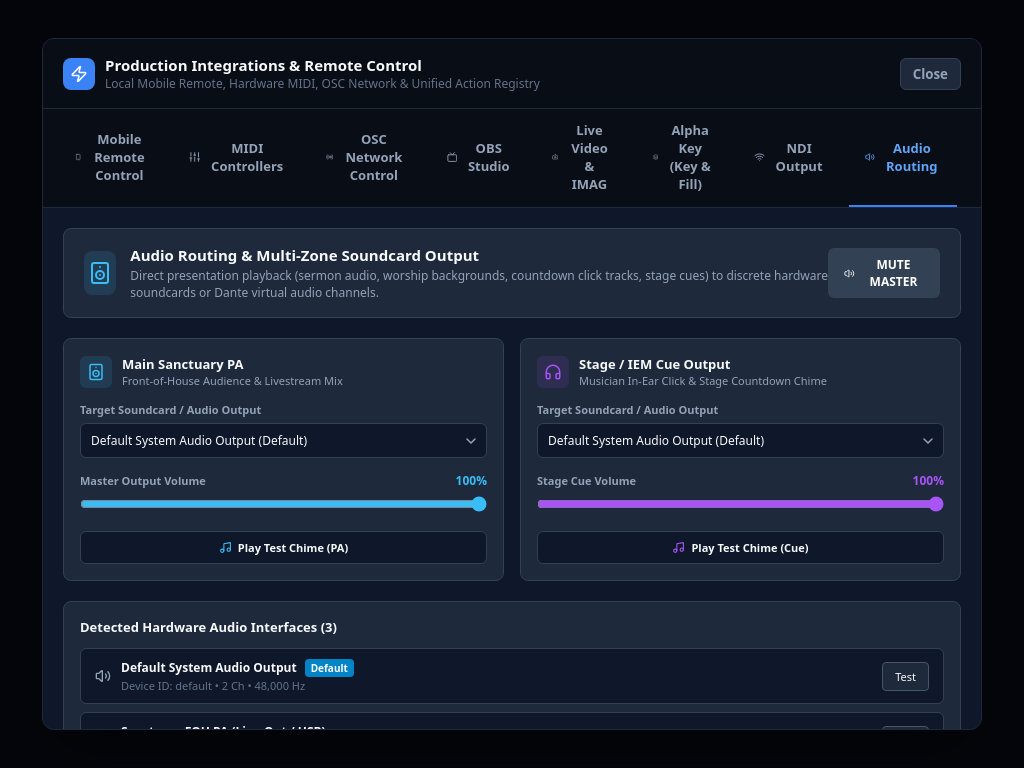
it: Phase 11.7: Audio Routing & Multi-Zone Soundcard Output › UI Integration: ProductionIntegrationsModal Audio Tab › toggles master mute button and displays MUTED badge
What coordinates should you click on to do the following:
click the button with test id "audio-mute-toggle"
I would click on:
 (884, 273)
Its box is [828,248,940,298].
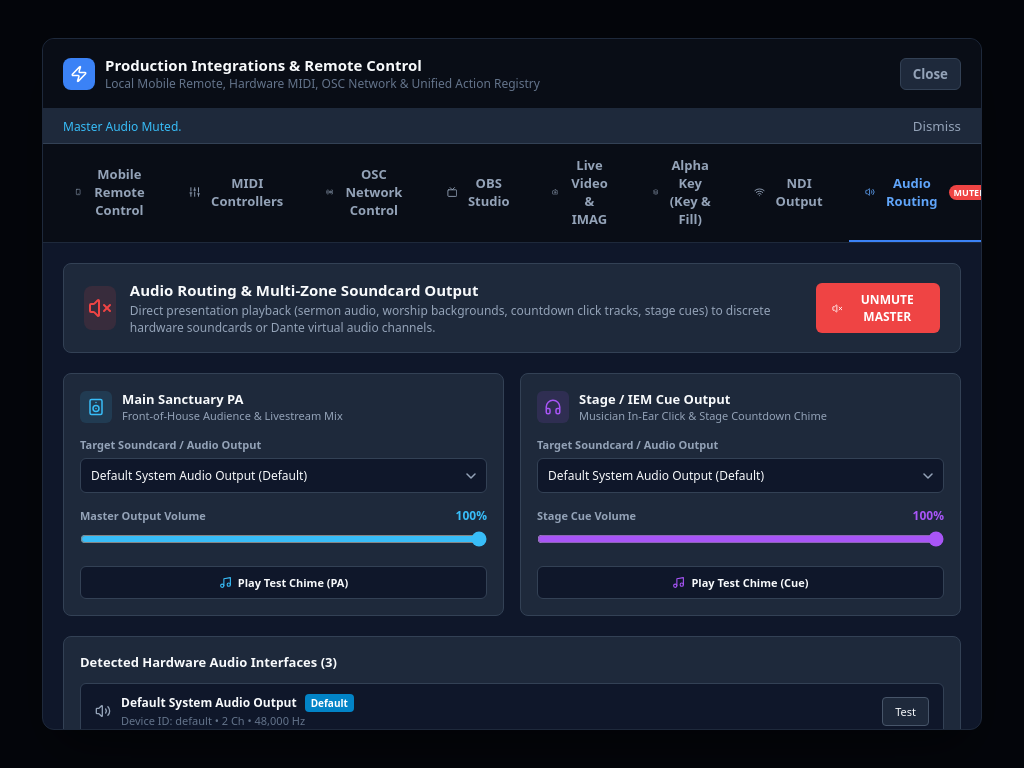
Result: the text "MUTED" is shown at [949,185,982,200]
